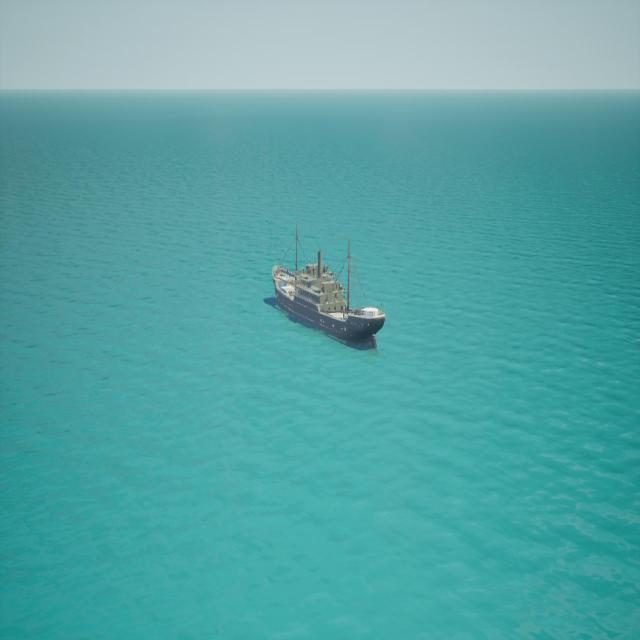fishing ship: (268, 231, 387, 352)
